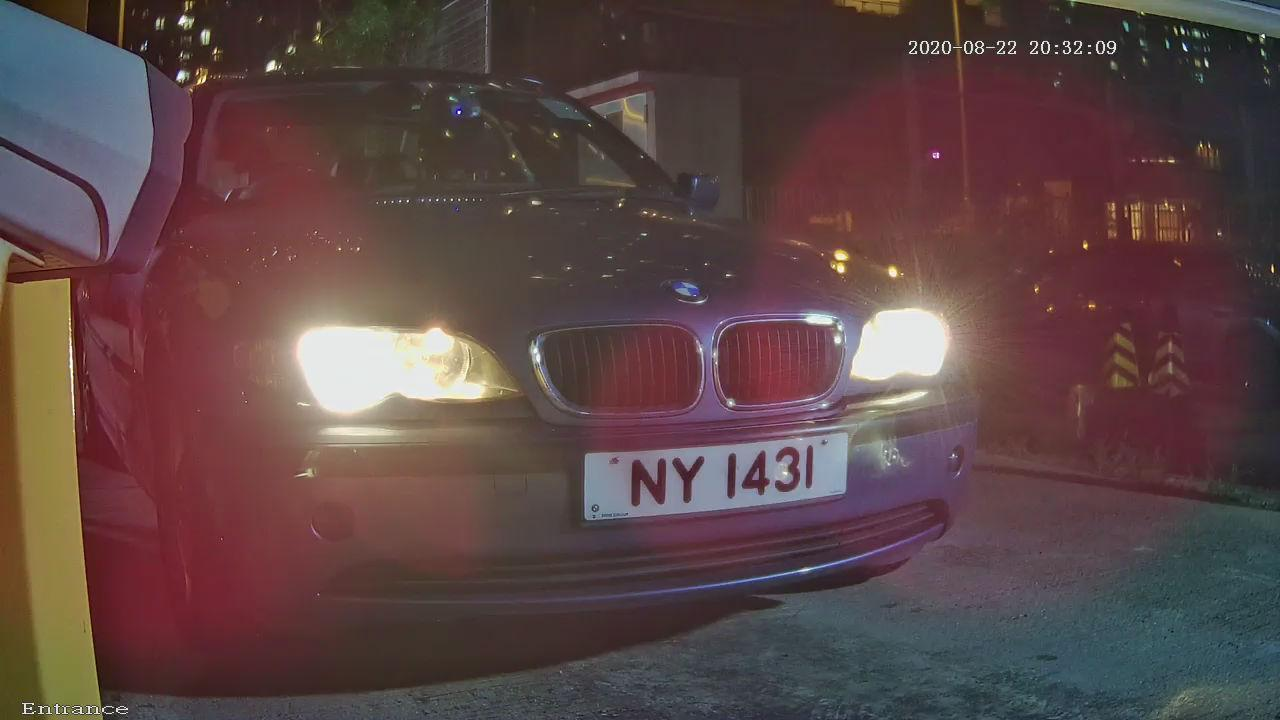Car: (23, 13, 1109, 679)
License Plate: (523, 378, 913, 572)
